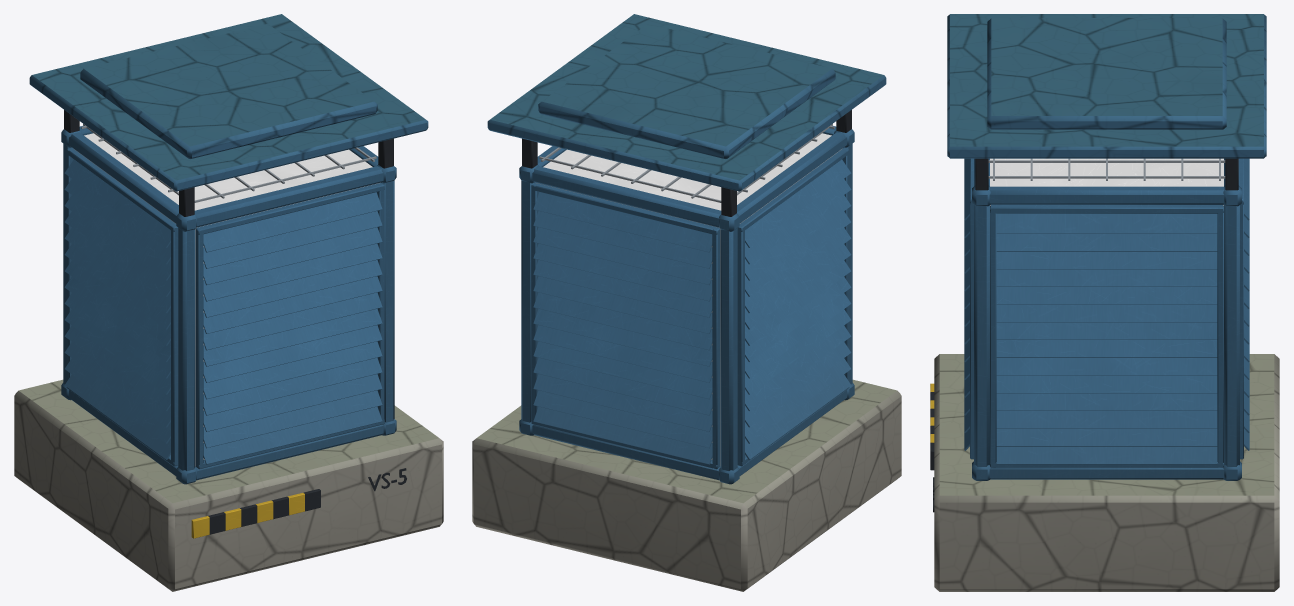
Rendered from ventilation_shaft.glb.
3 views of the same model, side by side, from view 1: azimuth 30°, elevation 25°; view 2: azimuth 150°, elevation 25°; view 3: azimuth 270°, elevation 25° (orthographic). The views are drawn at different scales.
Parts seen in each view (by area): view 1: ventilation_shaft; view 2: ventilation_shaft; view 3: ventilation_shaft.
Part boxes in pixels (box(x1,y1,x2,y2)): ventilation_shaft: box(14, 14, 443, 591); ventilation_shaft: box(472, 14, 901, 591); ventilation_shaft: box(930, 14, 1279, 591).
Bounding box in the file's own units: 2.6 × 3.77 × 2.63.
Materials: 8 (8 with a texture image).
